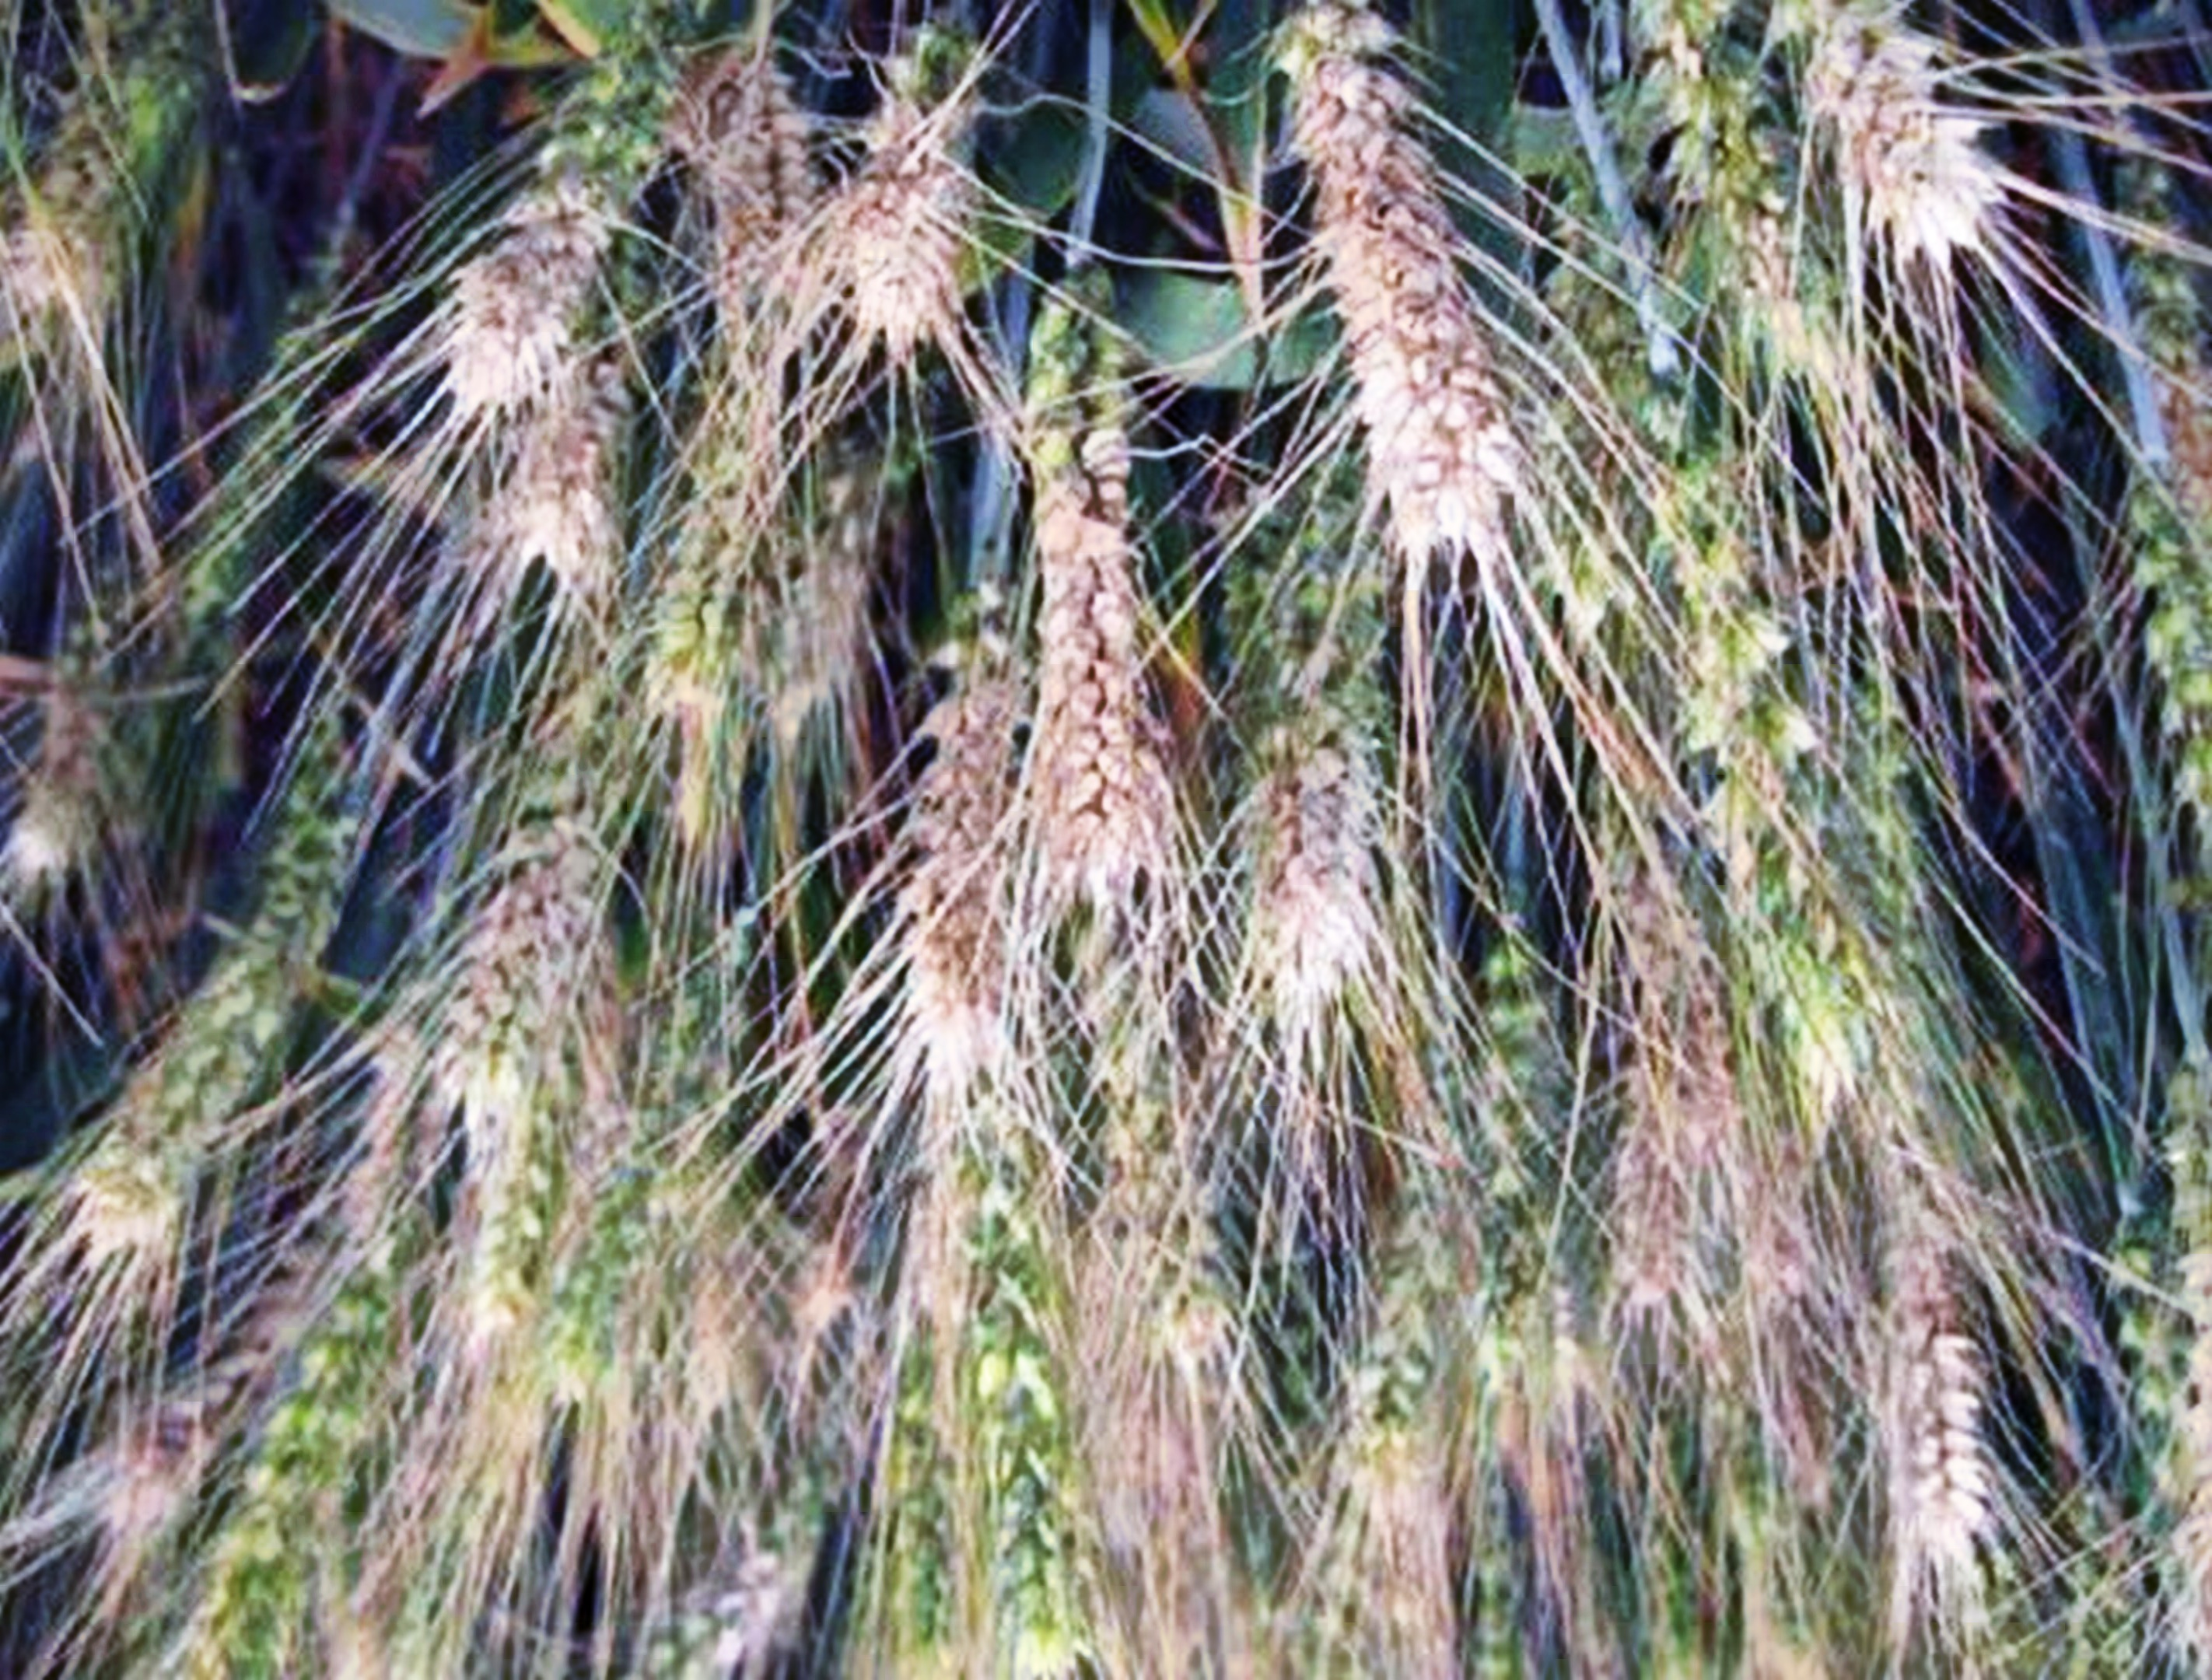Wheat scab: (1265, 32, 1528, 551), (1000, 247, 1184, 874), (425, 28, 688, 409)
